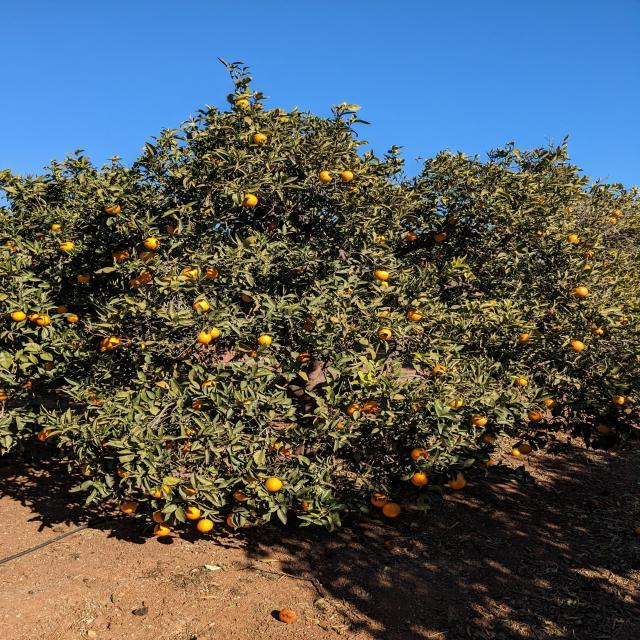Jeruk Sudah Matang: (411, 446, 432, 464), (447, 472, 468, 490), (180, 266, 202, 282), (380, 502, 402, 518), (148, 484, 172, 498), (84, 390, 106, 405), (262, 477, 284, 492), (369, 492, 389, 508), (227, 512, 246, 528), (36, 428, 56, 443), (300, 497, 320, 512), (346, 403, 366, 418), (191, 299, 213, 312), (195, 518, 214, 533), (240, 194, 260, 208), (177, 440, 197, 454), (183, 506, 203, 520), (470, 413, 490, 427), (516, 332, 536, 346), (120, 499, 138, 514), (153, 509, 171, 524), (201, 379, 220, 393), (237, 398, 256, 412), (268, 440, 288, 453), (566, 341, 586, 354), (574, 284, 590, 300), (235, 487, 252, 502), (244, 473, 262, 487), (138, 251, 157, 264), (46, 424, 66, 436), (152, 524, 172, 536), (412, 472, 428, 487), (196, 329, 212, 344), (163, 274, 180, 288), (103, 336, 120, 350), (181, 488, 198, 502), (262, 220, 280, 233), (136, 270, 154, 283), (60, 241, 77, 254), (81, 464, 98, 477), (116, 465, 133, 478), (409, 401, 426, 414), (528, 409, 545, 422), (144, 238, 162, 250), (432, 366, 450, 378), (253, 133, 269, 146), (167, 222, 183, 235), (612, 394, 628, 407), (373, 268, 390, 280), (203, 268, 220, 280), (186, 425, 203, 437), (281, 445, 298, 457), (480, 432, 497, 444), (112, 250, 132, 260), (318, 170, 334, 182), (128, 278, 144, 290), (117, 336, 133, 348), (18, 378, 34, 390), (364, 401, 380, 413), (448, 396, 464, 408), (242, 292, 258, 304), (258, 334, 274, 346), (408, 310, 424, 322), (531, 194, 547, 206), (586, 318, 602, 330), (514, 374, 530, 386), (444, 366, 460, 378), (597, 422, 613, 434), (191, 400, 210, 410), (104, 203, 121, 214), (76, 272, 90, 285), (550, 322, 564, 335), (12, 310, 27, 322), (372, 234, 387, 246), (36, 315, 51, 327), (206, 327, 221, 339), (410, 324, 425, 336), (42, 361, 58, 372), (296, 350, 312, 361), (518, 444, 535, 454), (236, 98, 250, 110), (341, 170, 355, 182), (434, 232, 448, 244), (28, 312, 42, 324), (440, 436, 454, 448), (544, 398, 558, 410), (337, 422, 352, 433), (378, 328, 393, 339), (66, 340, 82, 350), (482, 454, 495, 466), (618, 315, 631, 327), (348, 186, 362, 197), (55, 304, 70, 314), (0, 388, 11, 401), (379, 310, 392, 321), (404, 232, 418, 242), (376, 281, 390, 291), (248, 348, 262, 358), (531, 228, 545, 238), (568, 234, 582, 244), (448, 216, 461, 226), (582, 250, 598, 258), (126, 219, 138, 229), (406, 214, 418, 224), (562, 204, 574, 214), (593, 326, 605, 336), (66, 314, 80, 322), (211, 154, 222, 164), (134, 342, 146, 351), (614, 208, 624, 218), (583, 264, 592, 274), (51, 224, 62, 232), (604, 260, 615, 268), (9, 244, 19, 252), (100, 338, 108, 348), (5, 240, 16, 247), (606, 217, 617, 224), (512, 449, 521, 457), (68, 222, 78, 229), (40, 236, 48, 242), (44, 244, 52, 250), (492, 218, 500, 224), (497, 227, 503, 233)
